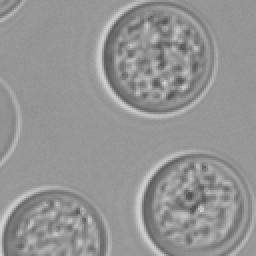picoshell: (98, 2, 214, 116), (138, 152, 252, 254), (0, 186, 110, 254), (0, 78, 20, 166)
